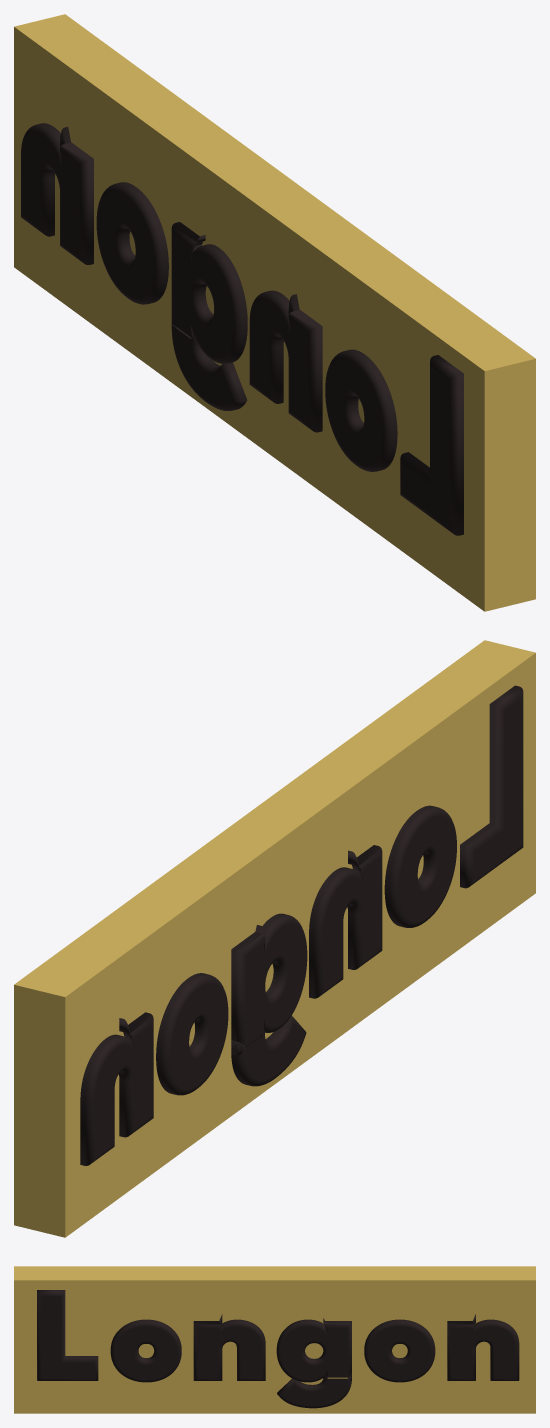
Rendered from arm.fbx.
3 views of the same model, one above another, from view 1: azimuth 30°, elevation 25°; view 2: azimuth 150°, elevation 25°; view 3: azimuth 270°, elevation 25° (orthographic). The views are drawn at different scales.
Parts seen in each view (by area): view 1: Cube, Text; view 2: Cube, Text; view 3: Cube, Text.
Part boxes in pixels (box(x1,y1,x2,y2)): Cube: box(14, 14, 535, 611); Text: box(21, 123, 463, 535); Cube: box(14, 640, 535, 1237); Text: box(80, 685, 523, 1165); Cube: box(14, 1266, 535, 1413); Text: box(37, 1290, 519, 1408).
Size of the model in its own units: 24 by 75.65 by 268.
